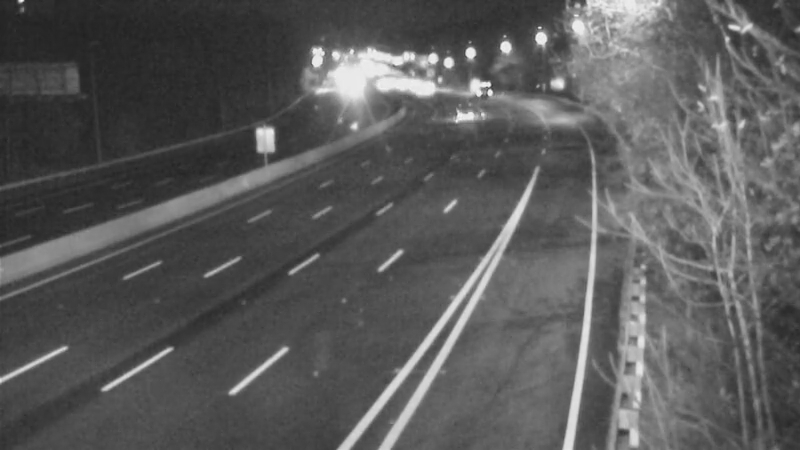vehicle: (455, 59, 505, 109), (435, 87, 485, 137)
